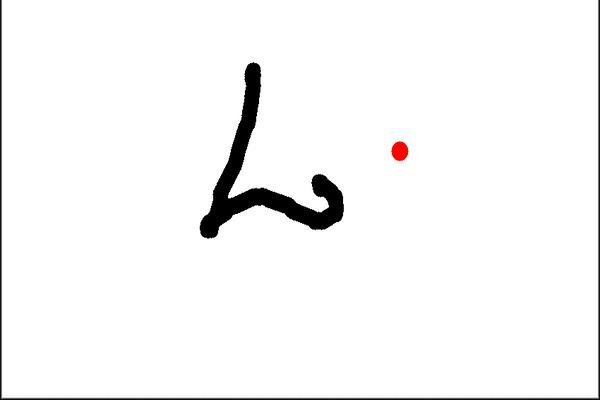L: (191, 55, 354, 245)
